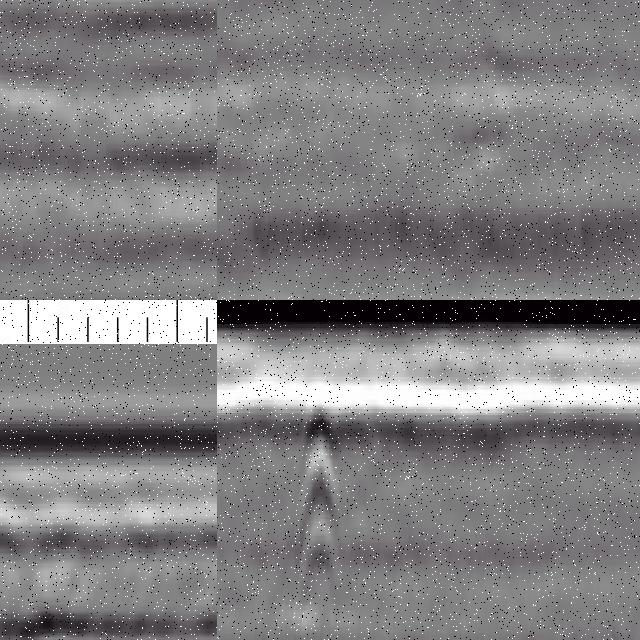crack: (302, 397, 343, 613), (1, 1, 23, 301)
